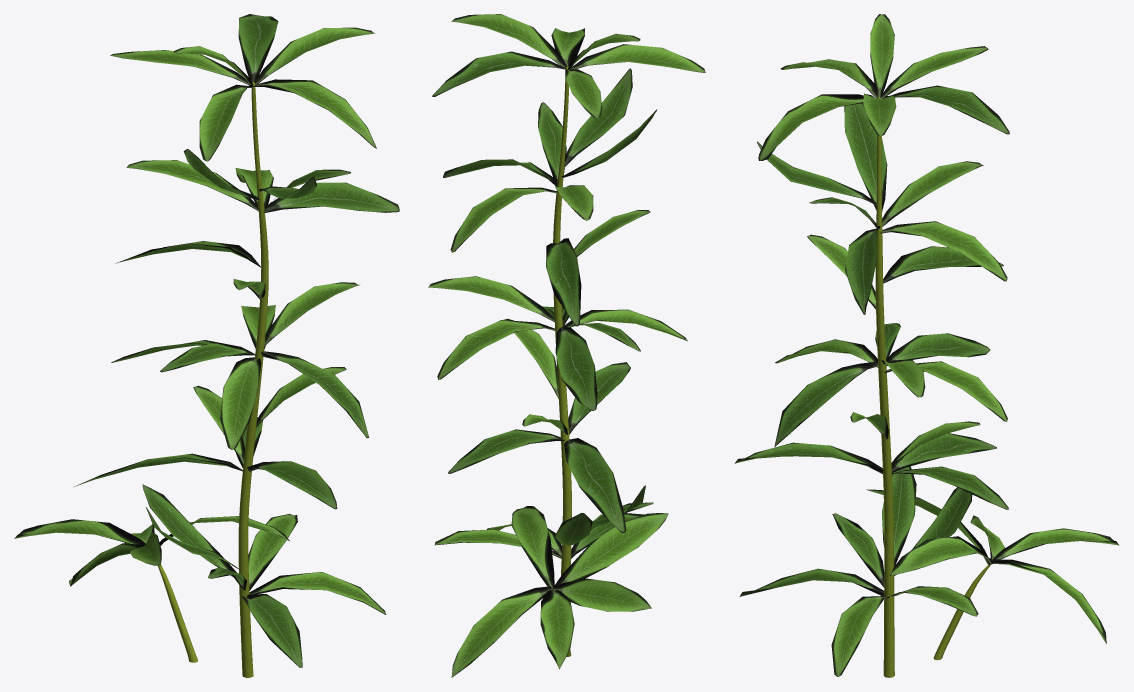
File: basic_game_ready_plant.glb
The picture shows the model from 3 angles, left to right: view 1: azimuth 30°, elevation 25°; view 2: azimuth 150°, elevation 25°; view 3: azimuth 270°, elevation 25°; orthographic projection. The views are drawn at different scales.
Parts seen in each view (by area): view 1: sm_plant; view 2: sm_plant; view 3: sm_plant.
Part boxes in pixels (box(x1,y1,x2,y2)): sm_plant: box(14, 14, 399, 677); sm_plant: box(428, 14, 705, 677); sm_plant: box(734, 14, 1119, 677).
Size of the model in its own units: 0.5234 by 1.17 by 0.6534.
Materials: 1 (1 with a texture image).
